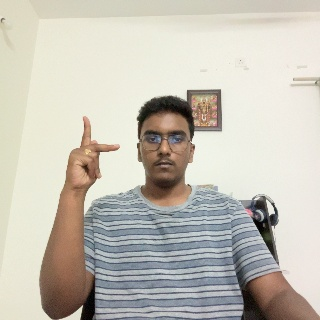Face: (140, 109, 191, 188)
Okay: (60, 115, 120, 214)
